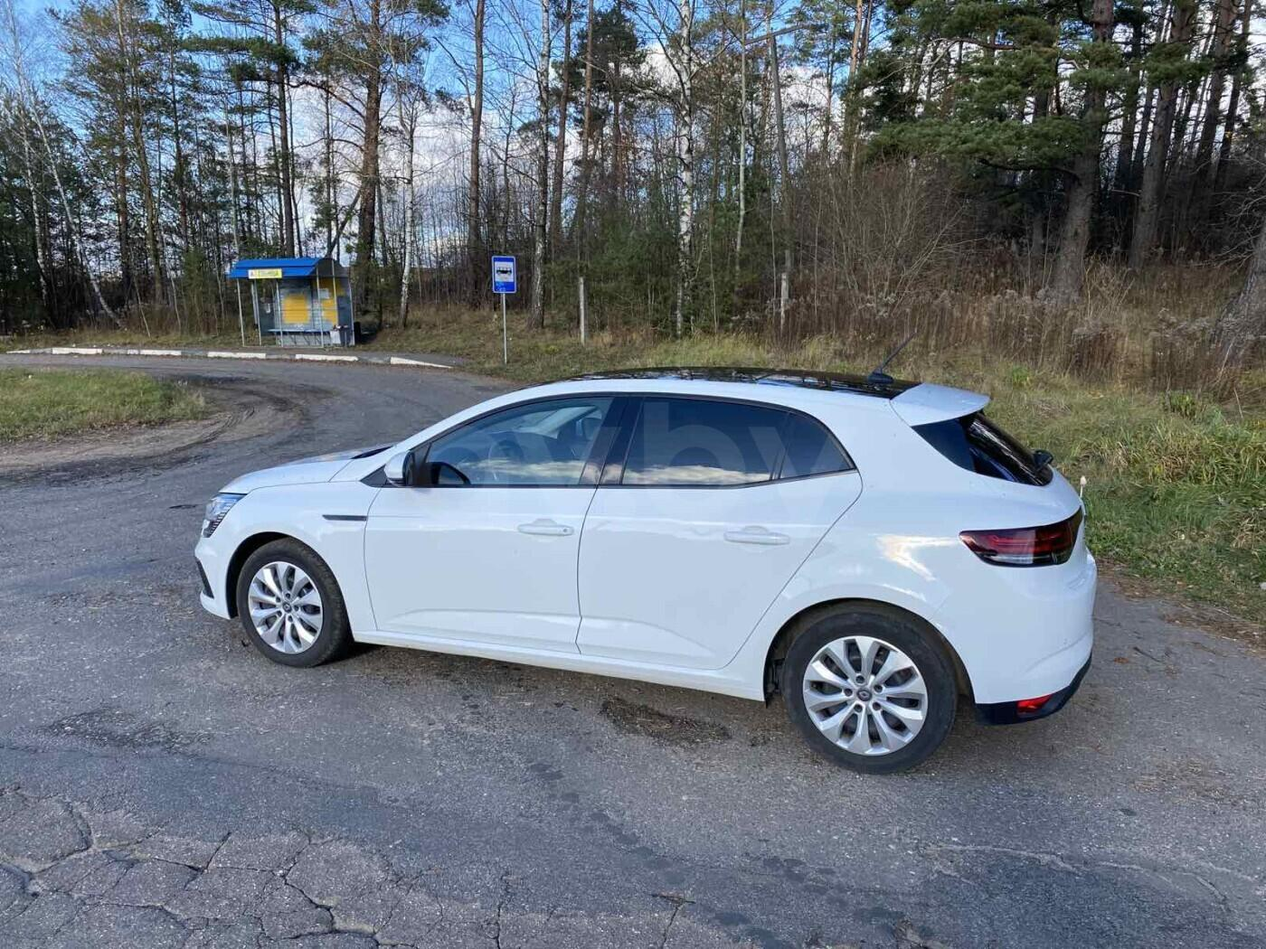Megane_2020: (187, 352, 1105, 773)
